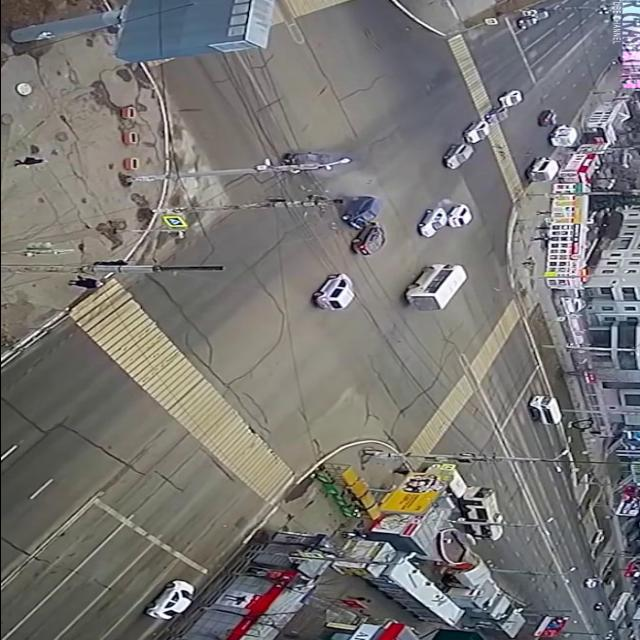accident: (272, 149, 388, 261)
non_accident: (436, 89, 532, 173), (412, 202, 480, 242)
